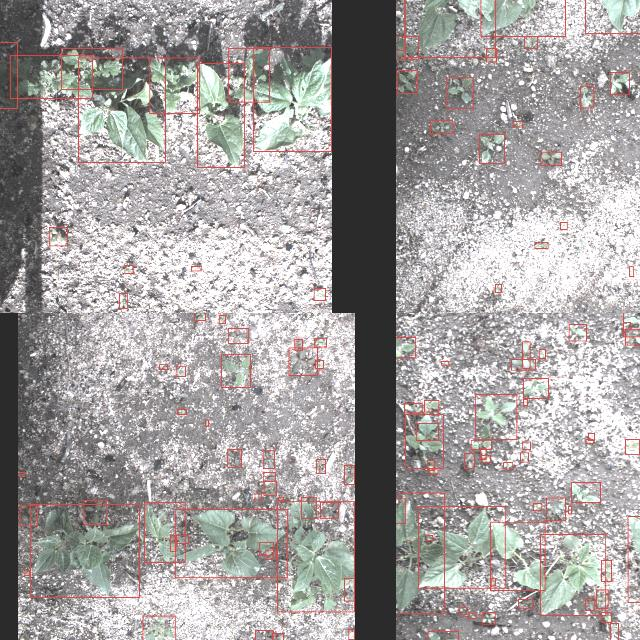crop: (30, 504, 140, 598), (78, 58, 164, 162), (278, 502, 354, 612), (254, 47, 332, 151), (175, 508, 287, 578), (418, 506, 504, 588), (396, 492, 443, 613), (540, 534, 606, 616), (404, 0, 495, 57), (198, 63, 245, 167), (490, 522, 546, 590), (480, 0, 565, 36), (144, 502, 186, 562), (586, 0, 640, 33), (628, 516, 640, 602)
weed: (9, 56, 92, 98), (150, 58, 200, 114), (61, 49, 122, 90), (228, 48, 270, 102), (405, 414, 443, 468), (475, 394, 517, 440), (0, 42, 17, 108), (222, 354, 250, 388), (288, 348, 318, 376), (446, 78, 472, 109), (143, 615, 175, 640), (480, 134, 504, 164), (571, 483, 601, 503), (84, 500, 106, 524), (396, 36, 418, 59), (397, 70, 417, 94), (524, 378, 548, 398), (610, 72, 630, 95), (546, 498, 566, 520), (396, 336, 415, 357), (416, 423, 438, 441), (623, 313, 640, 336), (19, 505, 37, 525), (49, 228, 67, 246), (228, 328, 248, 344), (430, 120, 452, 134), (540, 152, 562, 166), (580, 86, 594, 108), (302, 497, 316, 519), (320, 502, 338, 518), (569, 325, 587, 341), (428, 631, 458, 640), (228, 449, 242, 467), (396, 498, 406, 523), (625, 329, 640, 345), (511, 360, 535, 370), (625, 439, 639, 455), (344, 578, 354, 600), (602, 560, 612, 582), (596, 590, 608, 608), (471, 440, 492, 450), (522, 342, 530, 368), (264, 480, 276, 496), (264, 451, 274, 469), (345, 466, 355, 484), (255, 630, 273, 640), (404, 403, 422, 413), (524, 36, 538, 48), (259, 542, 273, 554), (424, 400, 438, 412), (314, 288, 326, 300), (482, 612, 494, 624), (486, 48, 496, 62), (316, 460, 326, 474), (464, 454, 474, 468), (610, 623, 618, 640), (518, 600, 534, 608), (263, 472, 275, 482), (585, 599, 595, 611), (119, 294, 127, 308), (176, 366, 186, 376), (266, 550, 276, 560), (602, 612, 612, 622), (315, 339, 327, 347), (176, 536, 188, 544), (170, 535, 176, 551), (194, 313, 205, 321), (534, 242, 548, 248), (295, 340, 303, 350), (538, 349, 546, 359), (520, 452, 528, 462), (272, 633, 283, 640), (532, 504, 542, 511), (480, 448, 486, 459), (125, 265, 133, 273), (560, 222, 568, 230), (218, 315, 226, 323), (315, 361, 323, 369), (523, 442, 531, 450), (349, 629, 355, 639), (428, 460, 434, 470), (503, 463, 513, 469), (482, 456, 491, 462), (495, 284, 501, 292), (159, 364, 167, 370), (254, 494, 262, 500), (430, 468, 438, 474), (490, 578, 496, 586), (588, 434, 594, 441), (459, 608, 466, 614), (191, 266, 201, 270), (512, 122, 522, 126), (630, 266, 634, 276), (23, 570, 29, 576), (624, 322, 630, 328), (426, 535, 432, 541), (178, 410, 186, 414), (441, 361, 449, 365), (568, 506, 572, 514), (468, 614, 476, 618), (205, 420, 209, 426), (278, 497, 284, 501), (586, 439, 592, 443), (523, 399, 527, 405), (20, 473, 24, 477)
